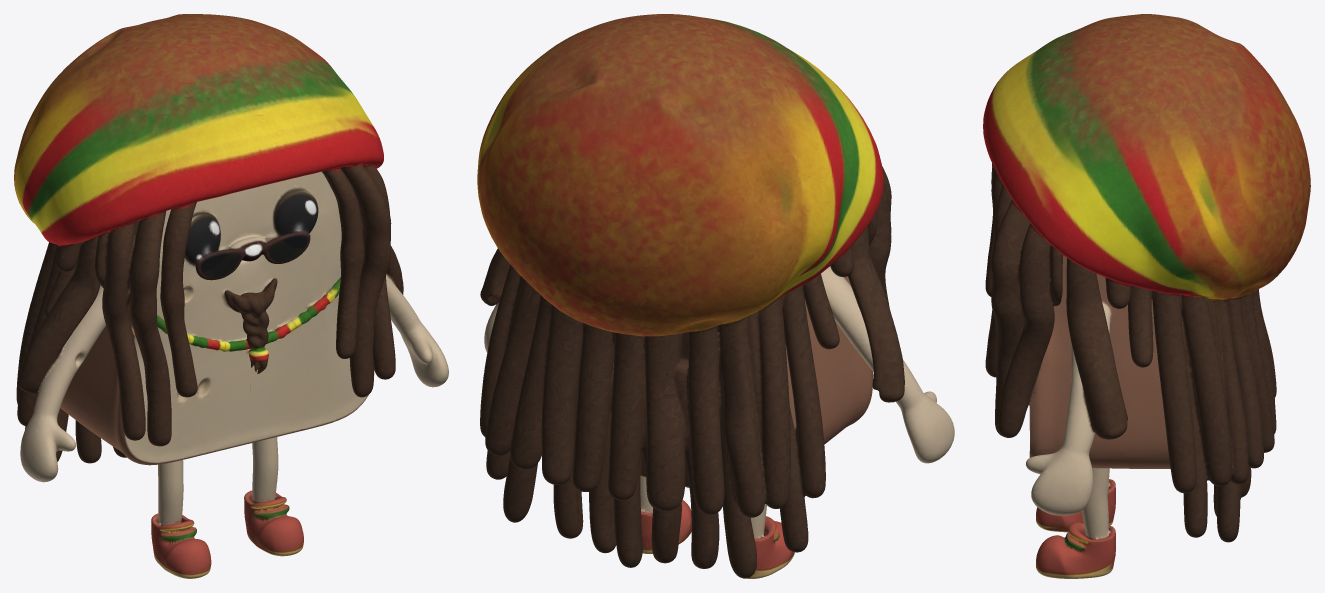
File: reggae-toast.glb
3 renders of one model, left to right at view 1: azimuth 30°, elevation 25°; view 2: azimuth 150°, elevation 25°; view 3: azimuth 270°, elevation 25°, orthographic. The views are drawn at different scales.
Size of the model in its own units: 1.65 by 1.9 by 1.1.
Materials: 1 (1 with a texture image).
